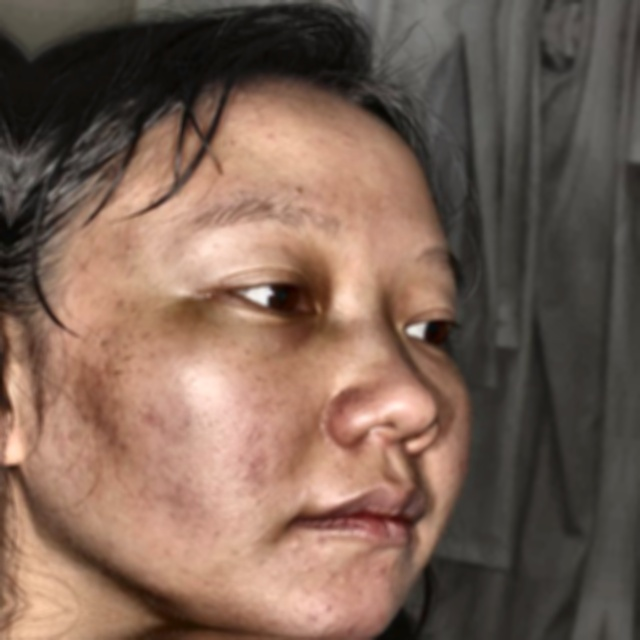comedone: (357, 600, 389, 633)
